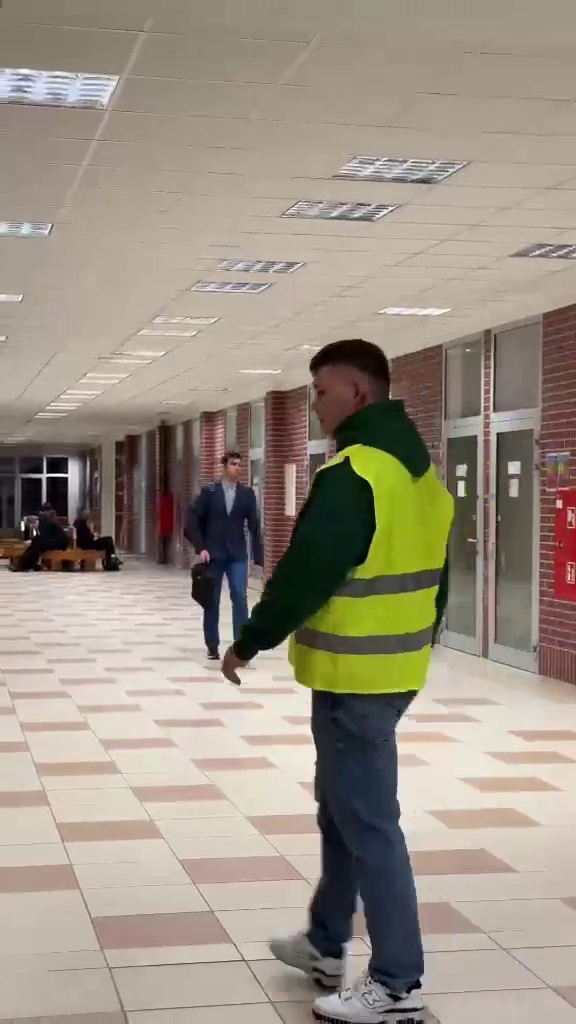no vest: (189, 444, 257, 647)
vest: (245, 337, 475, 1021)
